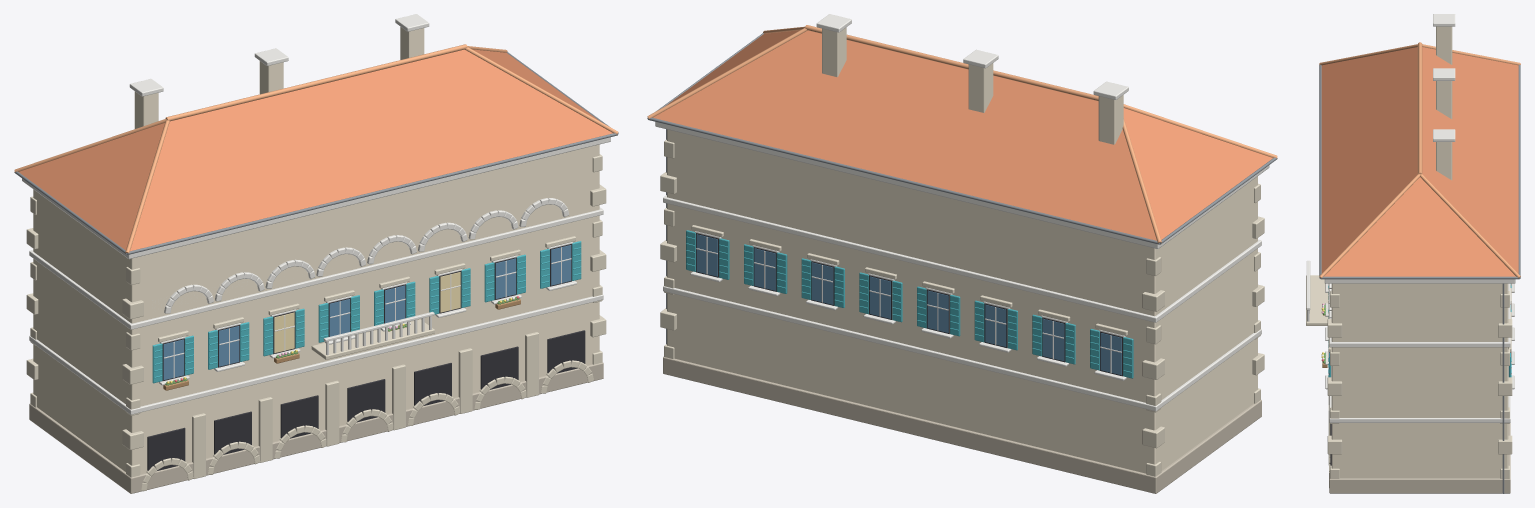
File: castle_palace.fbx
3 renders of one model, left to right at view 1: azimuth 30°, elevation 25°; view 2: azimuth 150°, elevation 25°; view 3: azimuth 270°, elevation 25°, orthographic. The views are drawn at different scales.
Visible parts, largest first — view 1: Visual; view 2: Visual; view 3: Visual.
Part boxes in pixels (x1,y1,x2,y2): Visual: (14,14,618,493); Visual: (647,14,1277,493); Visual: (1306,14,1520,493).
Size of what is drawn, in the model's own units: 3156 by 2095 by 1338.
